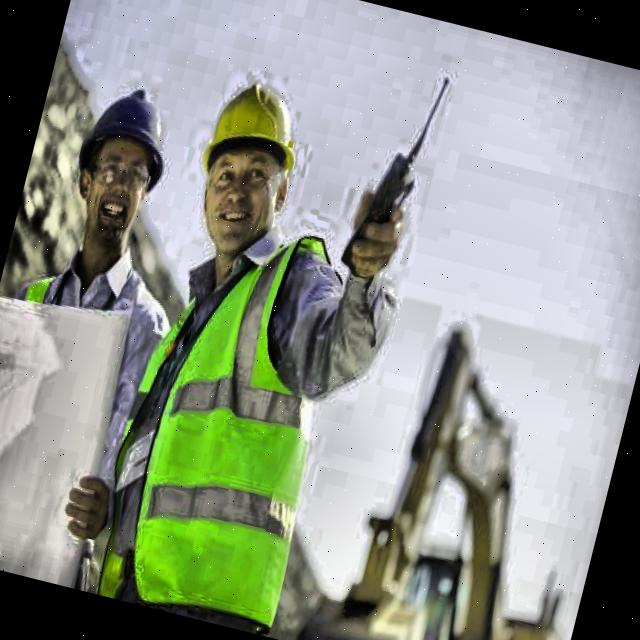helmet: (167, 51, 328, 284), (43, 49, 193, 282)
